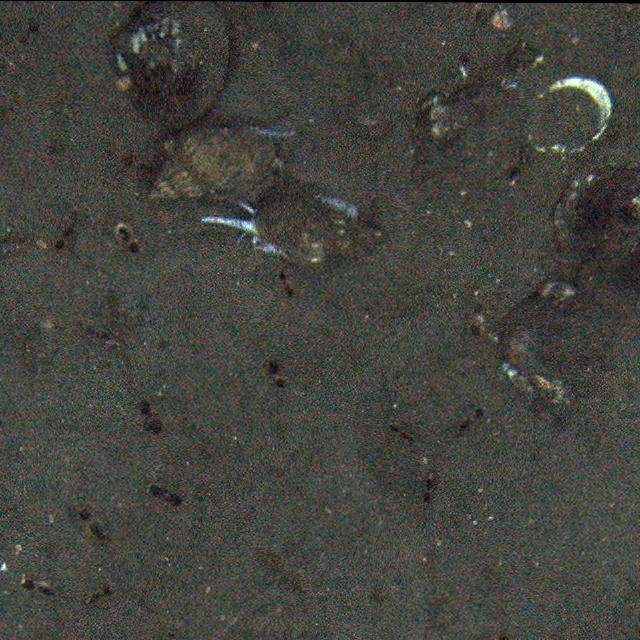whelk: (138, 125, 283, 205)
